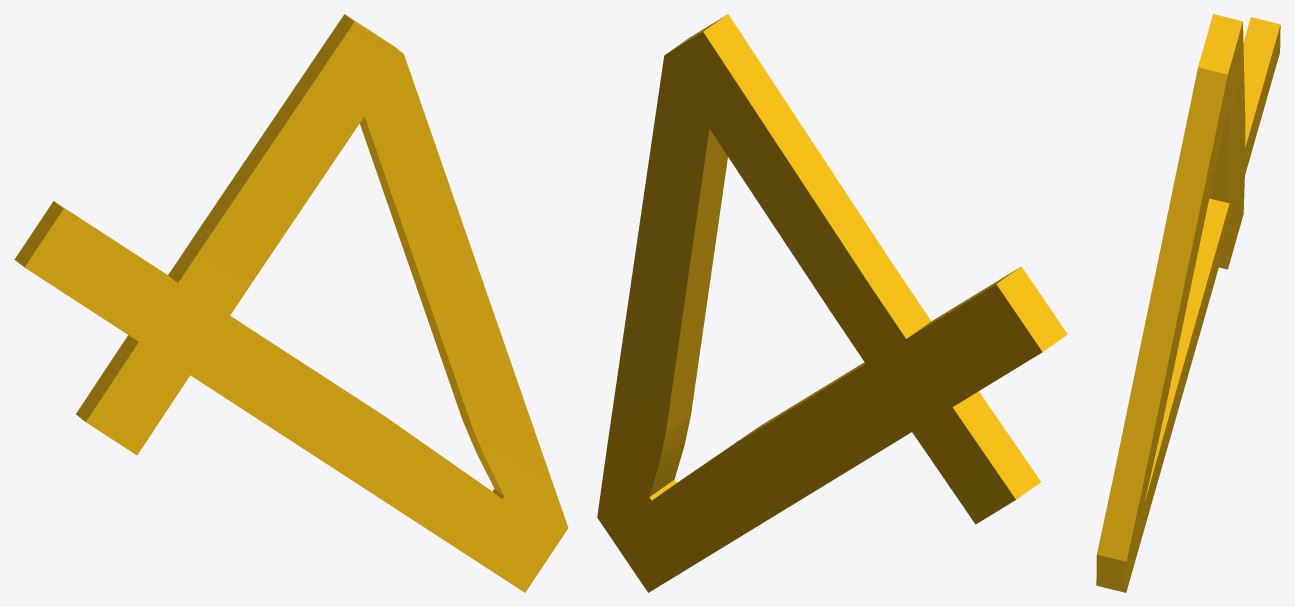
File: Number_4.gltf
The picture shows the model from 3 angles, left to right: view 1: azimuth 30°, elevation 25°; view 2: azimuth 150°, elevation 25°; view 3: azimuth 270°, elevation 25°; orthographic projection. The views are drawn at different scales.
Parts seen in each view (by area): view 1: Sub_1_Cell_2_3_Number_4; view 2: Sub_1_Cell_2_3_Number_4; view 3: Sub_1_Cell_2_3_Number_4.
Boxes of the visible parts, x1,y1,x2,y2 form: Sub_1_Cell_2_3_Number_4: (14, 14, 568, 592); Sub_1_Cell_2_3_Number_4: (597, 14, 1067, 592); Sub_1_Cell_2_3_Number_4: (1096, 14, 1280, 592).
Size of the model in its own units: 0.021 by 0.0239 by 0.00757.
